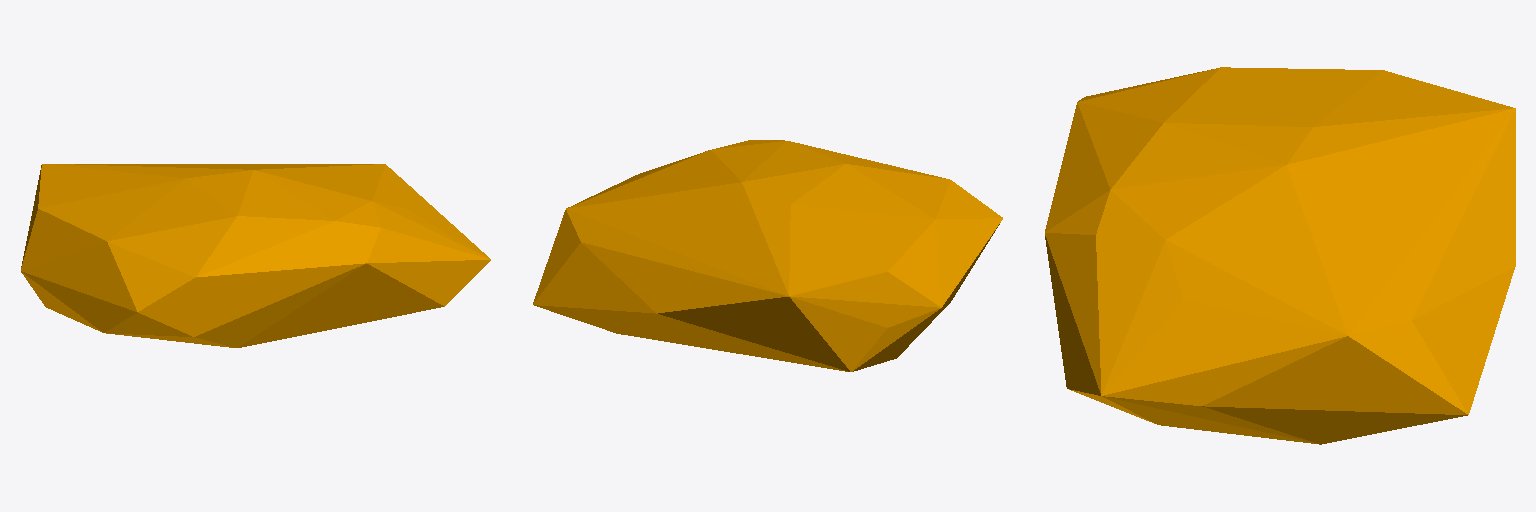
The robot description file, URDF, robot "23_861":
<?xml version="1.0"?>
<robot name="23_861">
  <link name="link">
    <contact>
      <lateral_friction value="0.6"/>
    </contact>
    <inertial>
      <mass value = "0.1306536775266859"/>
      <inertia ixx="2.614081229122946e-05" ixy="-1.9292470033750937e-06" ixz="-3.0195079197427756e-06" iyy="4.1835303998508544e-05" iyz="-9.361142885969359e-07" izz="5.88238174215167e-05" />
    </inertial>
    <visual name="visual">
      <geometry>
        <mesh filename="23_861.obj"/>
      </geometry>
    </visual>
    <collision name="collision">
      <geometry>
        <mesh filename="23_861.obj"/>
      </geometry>
    </collision>
  </link>
</robot>

--- Render facts (derived) ---
3 views of the same robot in one strip: view 1: azimuth 30°, elevation 25°; view 2: azimuth 150°, elevation 25°; view 3: azimuth 270°, elevation 25° (orthographic).
Robot: 23_861 — 1 links, 0 joints (none); root link link; default pose: all joints at 0.
Visible links, largest first — view 1: link; view 2: link; view 3: link.
Boxes of the visible links, x1,y1,x2,y2 form: link: (21,164,490,347); link: (533,140,1002,371); link: (1045,67,1515,444).
Size in the robot's own frame: 0.0729 by 0.0552 by 0.0256 metres.
1 mesh visuals loaded from 1 distinct referenced files (1 OBJ).
